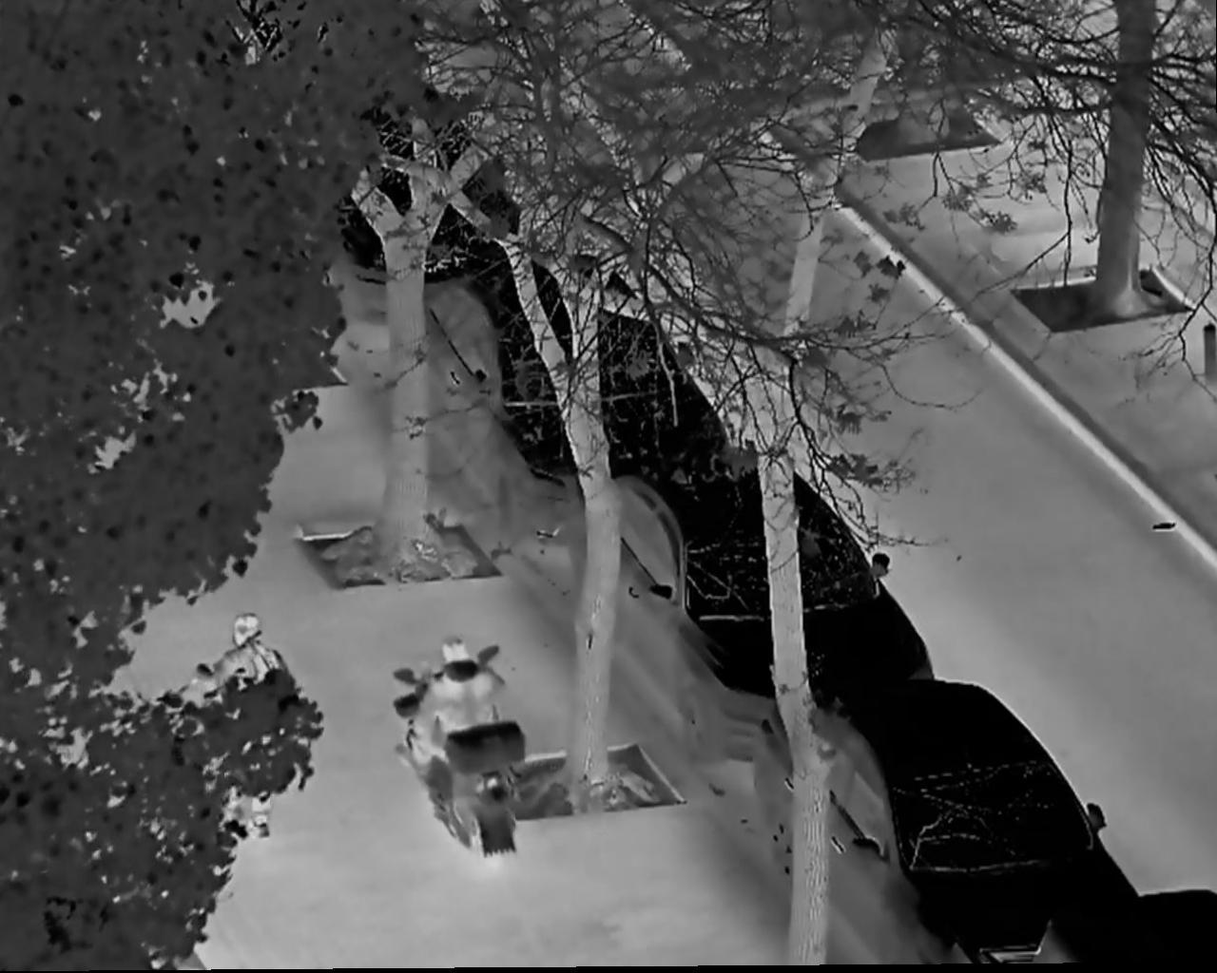person: (201, 613, 299, 844), (408, 634, 511, 783)
